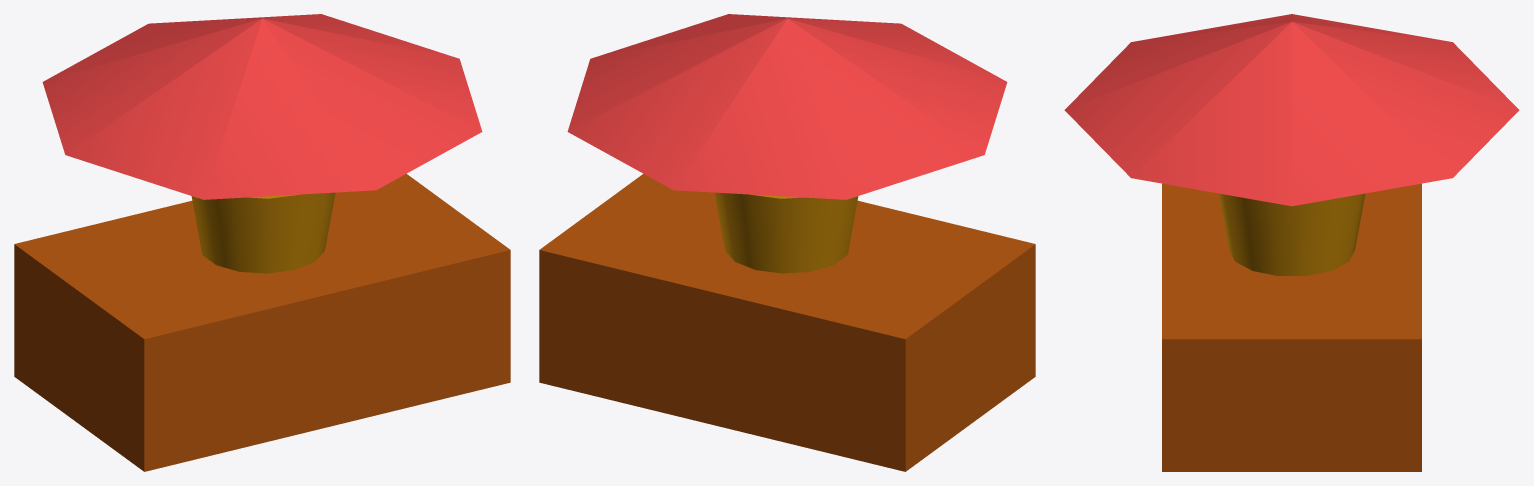
File: biryani_cart.glb
3 renders of one model, left to right at view 1: azimuth 30°, elevation 25°; view 2: azimuth 150°, elevation 25°; view 3: azimuth 270°, elevation 25°, orthographic.
Parts seen in each view (by area): view 1: BiryaniCart; view 2: BiryaniCart; view 3: BiryaniCart.
Part boxes in pixels (left/top/right/bottom): BiryaniCart: left=14, top=14, right=510, bottom=471; BiryaniCart: left=539, top=14, right=1035, bottom=471; BiryaniCart: left=1064, top=14, right=1519, bottom=471.
Size of the model in its own units: 2.8 by 2.45 by 2.8.
